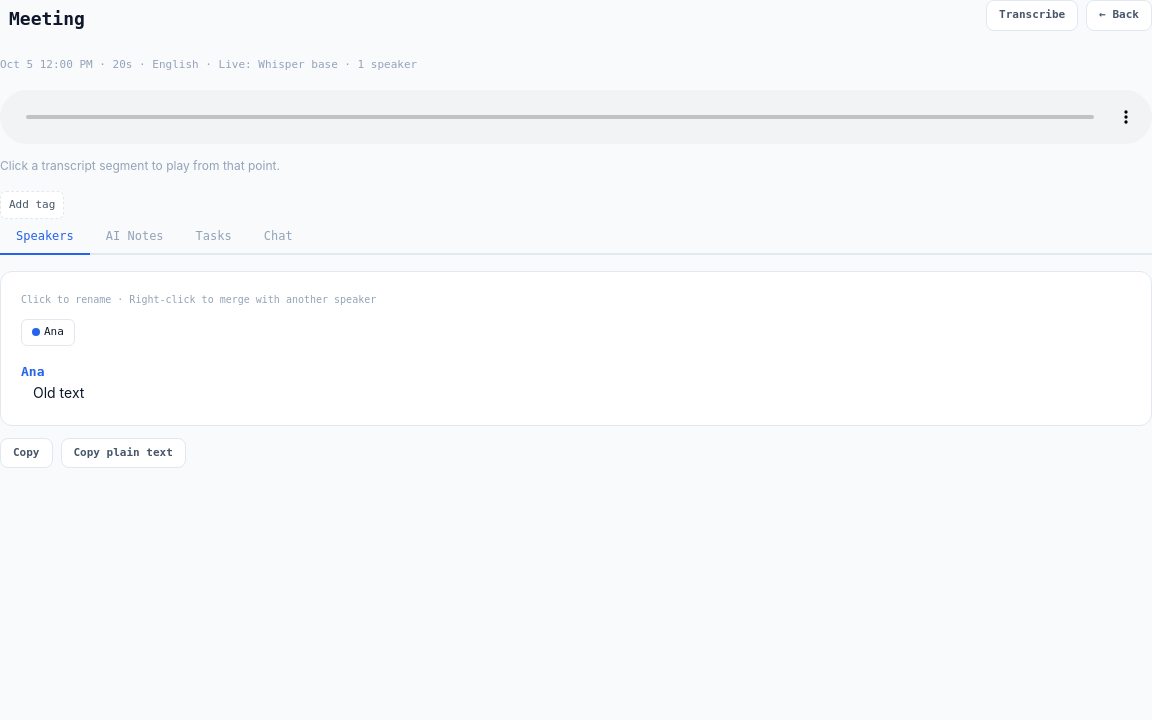
Test: failed transcription keeps accepted session and displays failure
Click the button "Transcribe" at (1032, 15), box left=986, top=0, right=1078, bottom=30
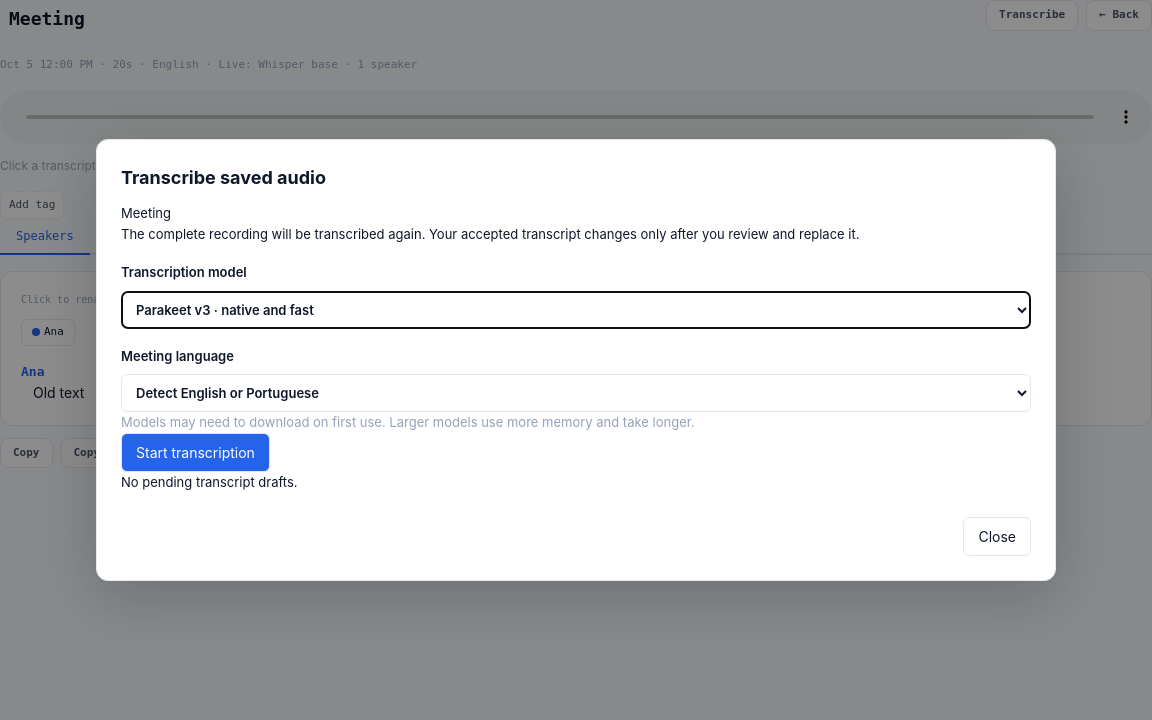
Click the button "Start transcription" at (195, 452), box left=121, top=433, right=270, bottom=472
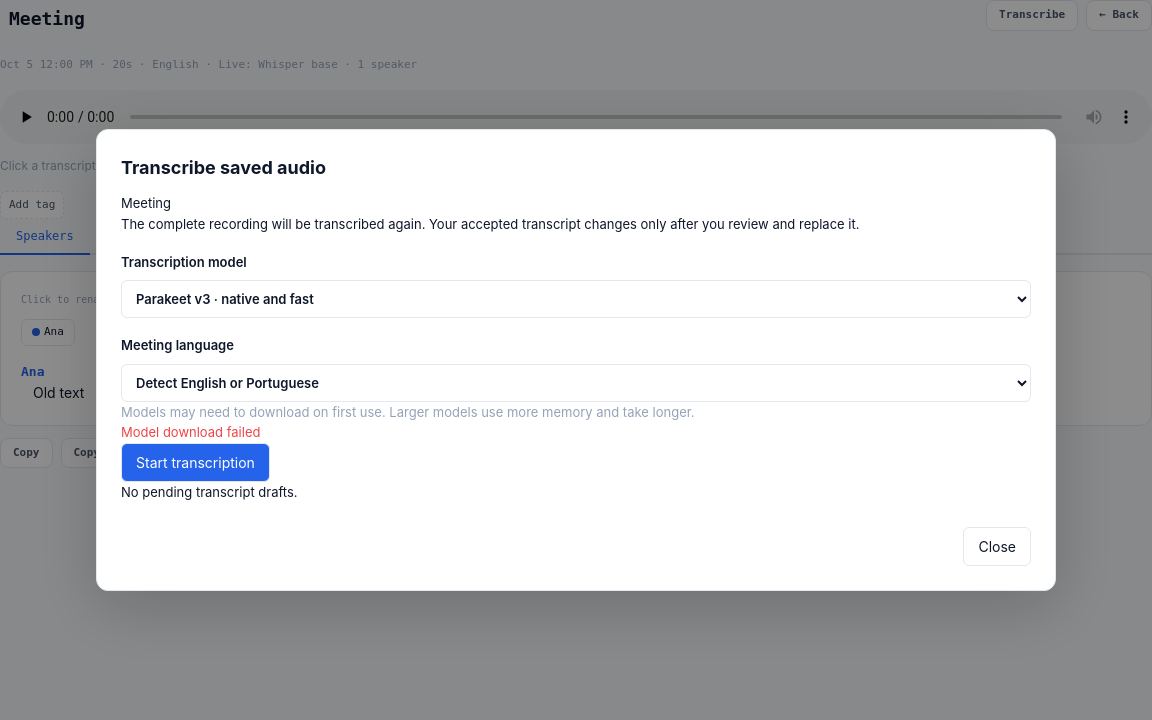
Now the message reads "Model download failed", box left=121, top=424, right=260, bottom=440
